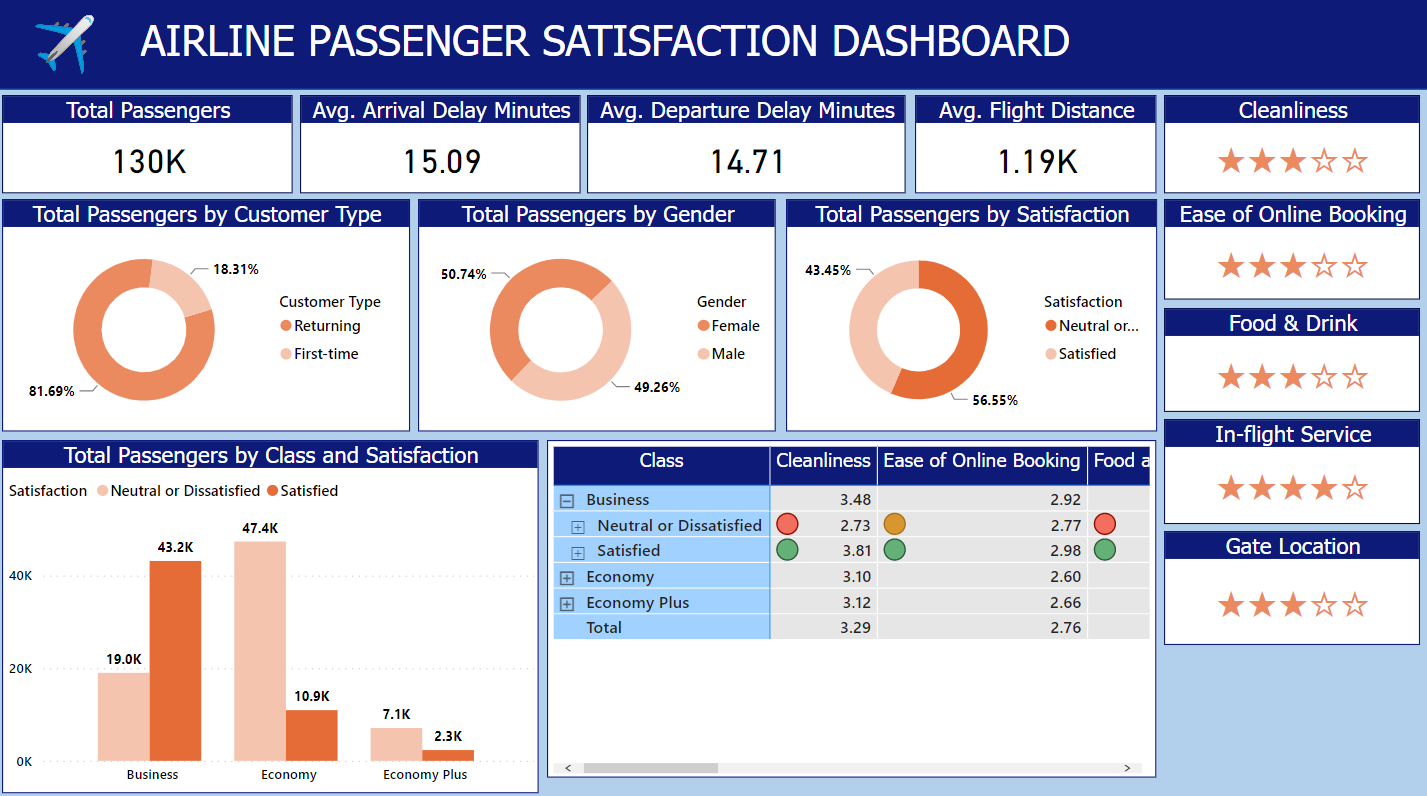

The page's visual inventory and layout, read from the dashboard file:
{"tool":"powerbi","page":{"name":"Page 1","canvas":[1280,720],"ordinal":0},"visuals":[{"type":"shape","box":[0,0,1280,83.2],"z":0},{"type":"textbox","box":[123.4,11,980.1,60.3],"z":1000},{"type":"card","title":"Cleanliness","fields":{"Values":["airline_passenger_satisfaction.Cleanliness Rating"]},"box":[1043.9,87.2,229.5,88.2],"z":2000},{"type":"image","box":[11,2.7,100.6,76.8],"z":3000},{"type":"card","title":"Ease of Online Booking","fields":{"Values":["airline_passenger_satisfaction.Ease of Online Booking Rating"]},"box":[1043.9,181.1,229.5,90.1],"z":4000},{"type":"card","title":"Food & Drink","fields":{"Values":["airline_passenger_satisfaction.Food and Drink Rating"]},"box":[1043.9,277.8,229.5,92.9],"z":5000},{"type":"card","title":"In-flight Service","fields":{"Values":["airline_passenger_satisfaction.In-flight Service Rating"]},"box":[1043.9,377.4,229.5,93.9],"z":6000},{"type":"card","title":"Total Passengers","fields":{"Values":["airline_passenger_satisfaction.Total Passenger"]},"box":[4.7,87.2,259.8,88.2],"z":7000},{"type":"card","title":"Avg. Arrival Delay Minutes","fields":{"Values":["Avg(airline_passenger_satisfaction.Arrival Delay)"]},"box":[271.2,87.2,251.3,88.2],"z":8000},{"type":"card","title":"Avg. Departure Delay Minutes","fields":{"Values":["Avg(airline_passenger_satisfaction.Departure Delay)"]},"box":[528.1,87.2,285.4,88.2],"z":9000},{"type":"donutChart","fields":{"Category":["airline_passenger_satisfaction.Gender"],"Y":["airline_passenger_satisfaction.Total Passengers"]},"box":[376.4,181.1,320.5,207.6],"z":10000},{"type":"donutChart","fields":{"Category":["airline_passenger_satisfaction.Customer Type"],"Y":["airline_passenger_satisfaction.Total Passengers"]},"box":[4.7,181.1,365,207.6],"z":11000},{"type":"card","title":"Avg. Flight Distance","fields":{"Values":["Avg(airline_passenger_satisfaction.Flight Distance)"]},"box":[821.1,87.2,216.2,88.2],"z":12000},{"type":"donutChart","fields":{"Category":["airline_passenger_satisfaction.Satisfaction"],"Y":["airline_passenger_satisfaction.Total Passengers"]},"box":[705.4,181.1,331.9,207.6],"z":13000},{"type":"clusteredColumnChart","fields":{"Category":["airline_passenger_satisfaction.Class"],"Y":["airline_passenger_satisfaction.Total Passengers"],"Series":["airline_passenger_satisfaction.Satisfaction"]},"box":[4.7,396.3,479.8,315.7],"z":14000},{"type":"pivotTable","fields":{"Rows":["airline_passenger_satisfaction.Class","airline_passenger_satisfaction.Satisfaction","airline_passenger_satisfaction.Customer Type","airline_passenger_satisfaction.Gender"],"Values":["Avg(airline_passenger_satisfaction.Cleanliness)","Avg(airline_passenger_satisfaction.Ease of Online Booking)","Avg(airline_passenger_satisfaction.Food and Drink)","Avg(airline_passenger_satisfaction.Gate Location)","Avg(airline_passenger_satisfaction.In-flight Service)","Avg(airline_passenger_satisfaction.Arrival Delay)","Avg(airline_passenger_satisfaction.Departure Delay)","Avg(airline_passenger_satisfaction.Flight Distance)","airline_passenger_satisfaction.Total Passengers"]},"box":[492.1,396.3,545.2,302.5],"z":15000},{"type":"card","title":"Gate Location","fields":{"Values":["airline_passenger_satisfaction.Gate Location Rating"]},"box":[1043.9,477.9,229.5,102.4],"z":16000}]}

Visuals, with their boxes in screenshot pixels (x1, y1, x2, y2), scaled from the page's 1280x720 canvas onto the 1427x796 screenshot:
shape: bbox(0, 0, 1426, 92)
textbox: bbox(138, 12, 1230, 79)
"Cleanliness" card: bbox(1164, 96, 1420, 194)
image: bbox(12, 3, 124, 88)
"Ease of Online Booking" card: bbox(1164, 200, 1420, 300)
"Food & Drink" card: bbox(1164, 307, 1420, 410)
"In-flight Service" card: bbox(1164, 417, 1420, 521)
"Total Passengers" card: bbox(5, 96, 295, 194)
"Avg. Arrival Delay Minutes" card: bbox(302, 96, 583, 194)
"Avg. Departure Delay Minutes" card: bbox(589, 96, 907, 194)
donutChart - airline_passenger_satisfaction.Gender x airline_passenger_satisfaction.Total Passengers: bbox(420, 200, 777, 430)
donutChart - airline_passenger_satisfaction.Customer Type x airline_passenger_satisfaction.Total Passengers: bbox(5, 200, 412, 430)
"Avg. Flight Distance" card: bbox(915, 96, 1156, 194)
donutChart - airline_passenger_satisfaction.Satisfaction x airline_passenger_satisfaction.Total Passengers: bbox(786, 200, 1156, 430)
clusteredColumnChart - airline_passenger_satisfaction.Class x airline_passenger_satisfaction.Total Passengers: bbox(5, 438, 540, 787)
pivotTable - airline_passenger_satisfaction.Class x airline_passenger_satisfaction.Satisfaction: bbox(549, 438, 1156, 773)
"Gate Location" card: bbox(1164, 528, 1420, 642)
